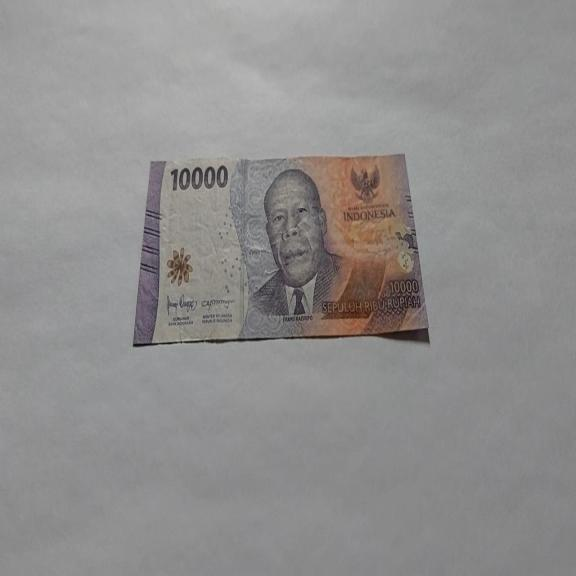Kertas: (132, 152, 430, 347)
